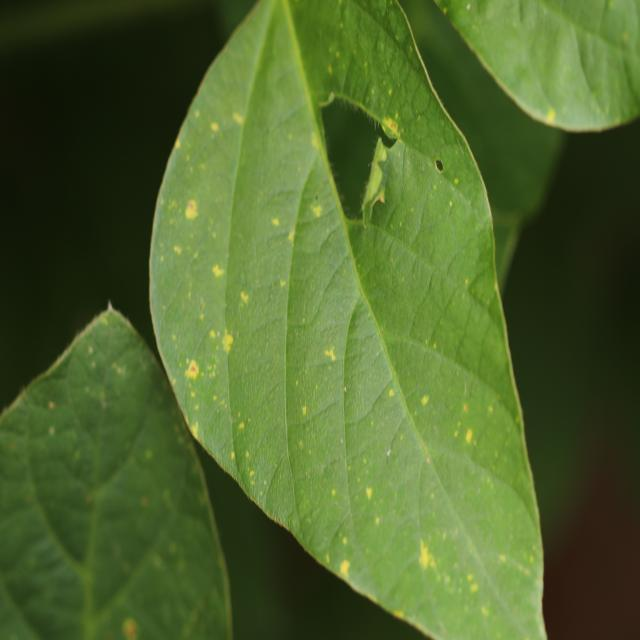Soybean: (147, 0, 640, 640)
downey_mildew: (507, 159, 631, 523), (163, 7, 269, 204), (409, 238, 518, 419), (427, 450, 540, 622), (340, 431, 435, 614), (460, 60, 565, 214), (92, 512, 218, 638), (172, 275, 241, 473), (365, 222, 460, 364), (80, 440, 161, 603), (327, 1, 432, 120), (165, 181, 234, 342), (75, 338, 147, 492), (197, 276, 278, 399), (350, 361, 415, 495), (527, 11, 598, 121), (17, 541, 87, 638), (37, 468, 99, 561), (291, 392, 353, 476), (380, 158, 433, 246), (345, 337, 390, 417), (1, 420, 40, 504), (598, 1, 640, 76), (312, 248, 356, 315), (320, 20, 364, 83), (257, 467, 295, 529), (516, 5, 536, 40), (100, 315, 109, 325), (115, 365, 124, 375), (85, 493, 93, 504), (191, 422, 197, 434), (73, 450, 80, 460), (387, 4, 392, 14)
